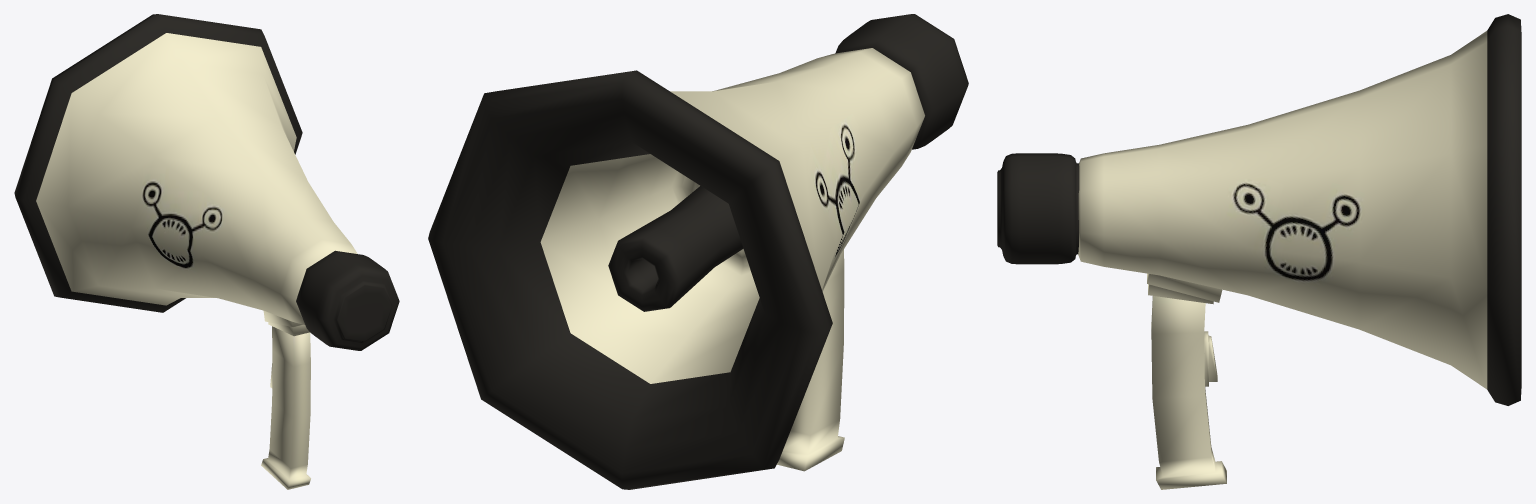
The model's file is item_megaphone.glb.
3 renders of one model, left to right at view 1: azimuth 30°, elevation 25°; view 2: azimuth 150°, elevation 25°; view 3: azimuth 270°, elevation 25°, orthographic. The views are drawn at different scales.
Visible parts, largest first — view 1: Cube; view 2: Cube; view 3: Cube.
Part boxes in pixels (x1=…): Cube: x1=14, y1=14, x2=399, y2=489; Cube: x1=428, y1=14, x2=968, y2=489; Cube: x1=997, y1=14, x2=1521, y2=489.
Size of the model in its own units: 6.73 by 8.36 by 8.69.
1 material, 1 textured.
